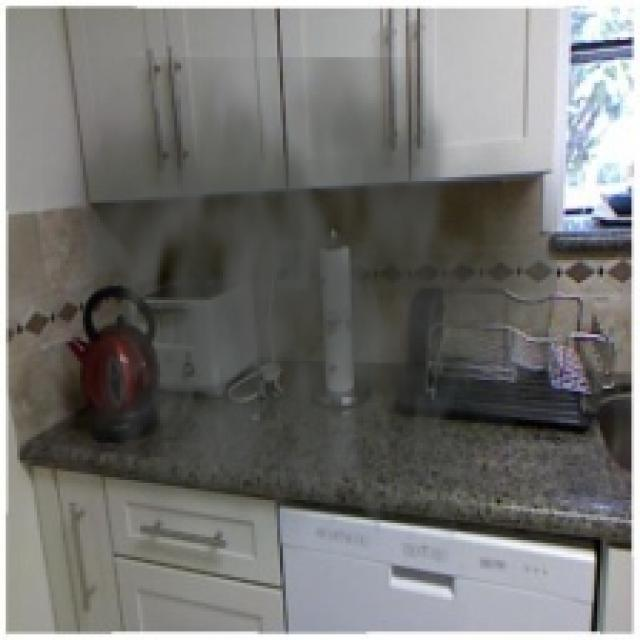Smoke: (42, 57, 558, 589)
